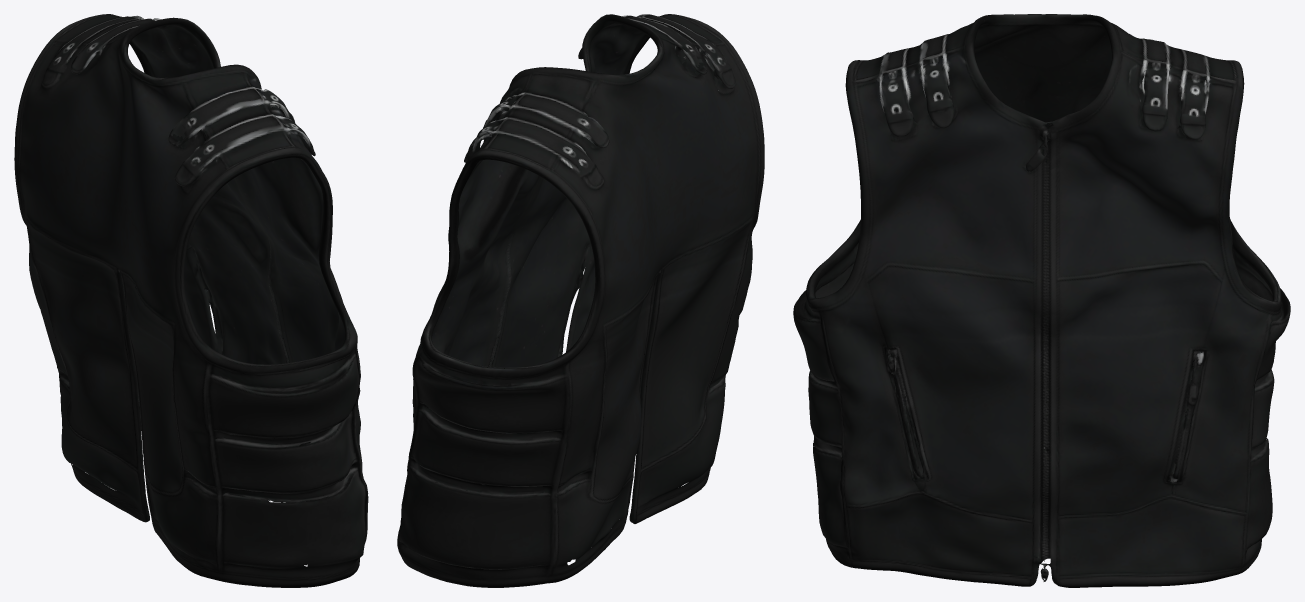
Rendered from prsluk-3dmodel.webp.glb.
3 renders of one model, left to right at view 1: azimuth 30°, elevation 25°; view 2: azimuth 150°, elevation 25°; view 3: azimuth 270°, elevation 25°, orthographic. The views are drawn at different scales.
Parts seen in each view (by area): view 1: tripo_node_dc9e5c96; view 2: tripo_node_dc9e5c96; view 3: tripo_node_dc9e5c96.
Boxes of the visible parts, bbox=[...] form: tripo_node_dc9e5c96: bbox=[14, 14, 368, 587]; tripo_node_dc9e5c96: bbox=[397, 14, 764, 587]; tripo_node_dc9e5c96: bbox=[793, 14, 1290, 587].
Bounding box in the file's own units: 0.4389 × 0.9767 × 0.8747.
Materials: 1 (1 with a texture image).
